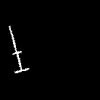double_crochet: (9, 26, 28, 72)
